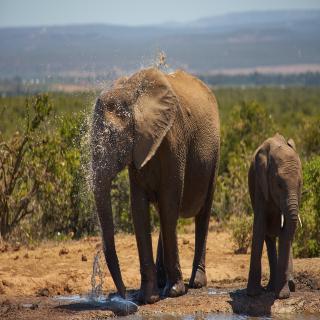Elephant: (84, 61, 222, 309), (242, 130, 304, 304)
